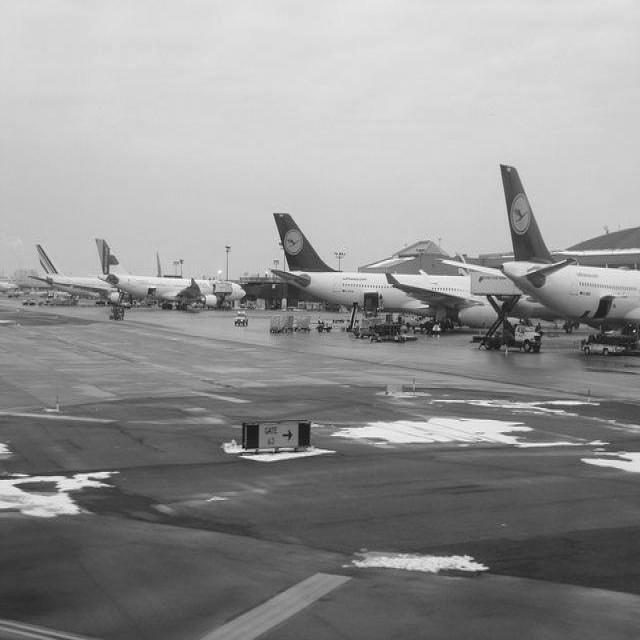vehicle: (473, 323, 543, 353), (581, 334, 636, 356), (402, 315, 434, 331), (46, 291, 70, 305), (234, 312, 249, 326), (234, 312, 248, 325), (315, 321, 332, 331), (22, 297, 36, 305)
